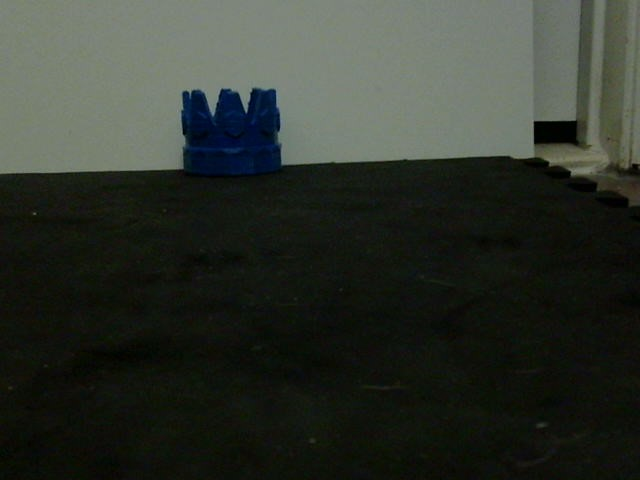crown: (181, 88, 283, 176)
